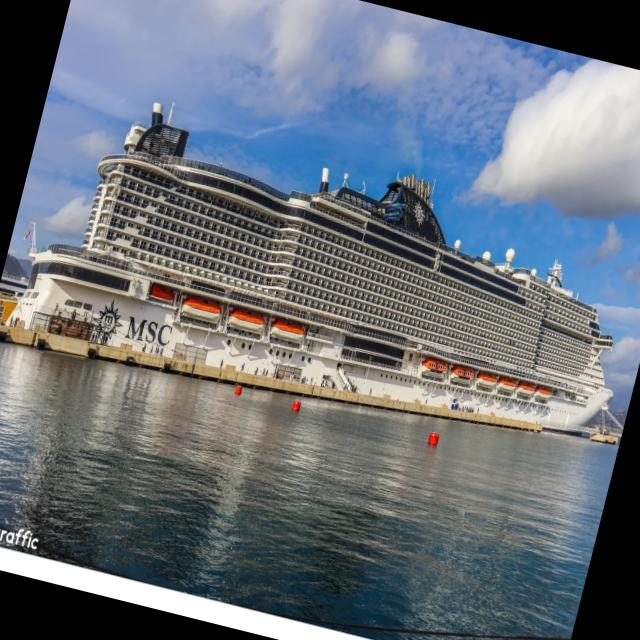Cruise: (12, 103, 612, 429)
